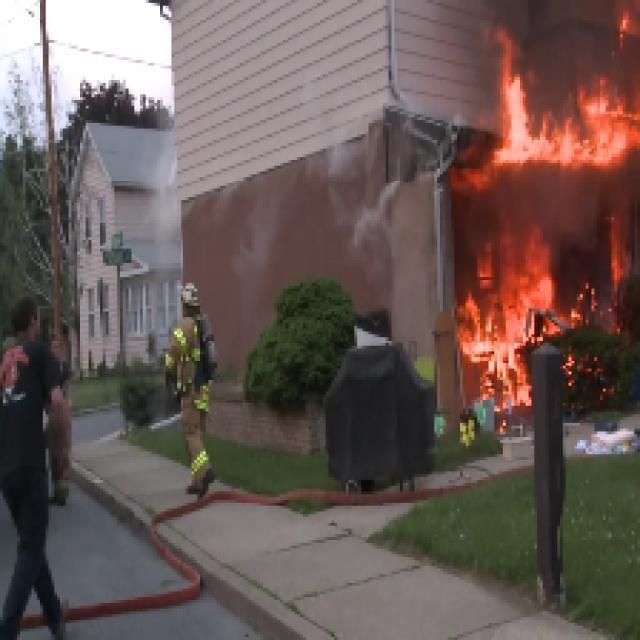Fire: (437, 11, 640, 428)
Smoke: (485, 0, 640, 105)
